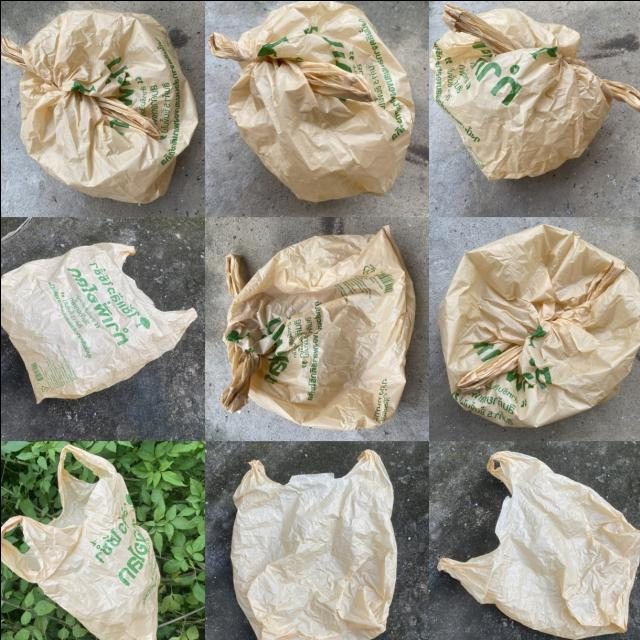plastik: (207, 0, 413, 201), (438, 223, 640, 425), (220, 226, 415, 429), (437, 450, 640, 639), (0, 8, 197, 202), (429, 4, 640, 179), (229, 449, 396, 640), (0, 444, 159, 640), (0, 242, 195, 400)
